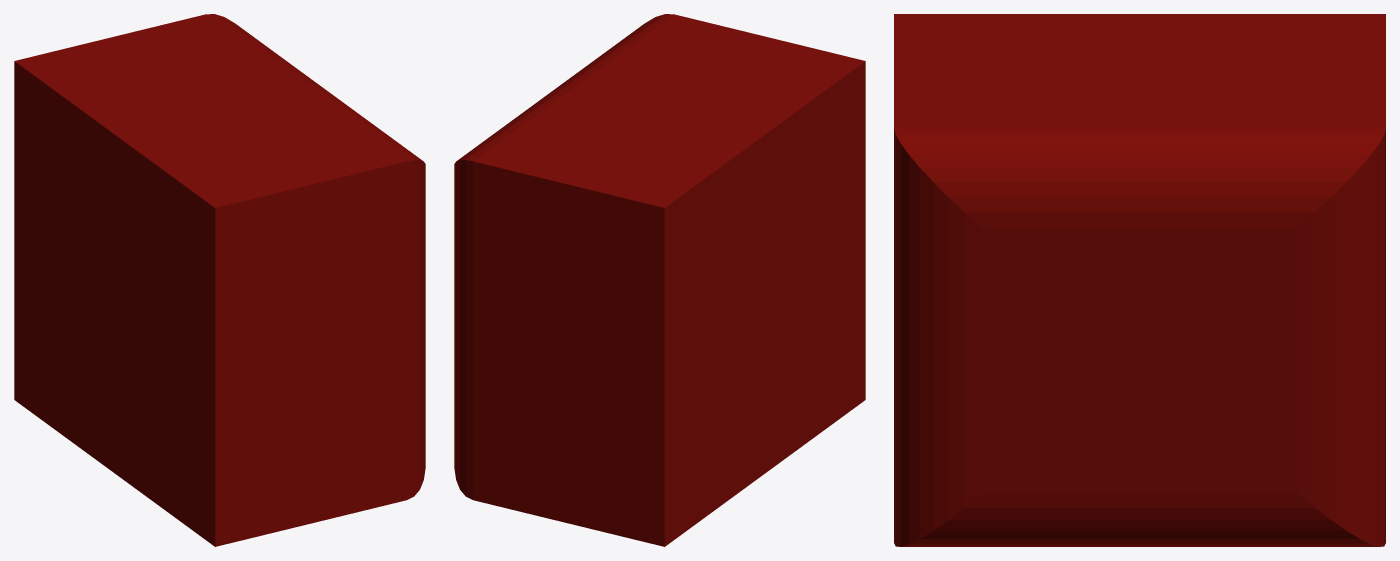
The model's file is red_big_button.glb.
3 views of the same model, side by side, from view 1: azimuth 30°, elevation 25°; view 2: azimuth 150°, elevation 25°; view 3: azimuth 270°, elevation 25° (orthographic). The views are drawn at different scales.
Visible parts, largest first — view 1: Кнопка; view 2: Кнопка; view 3: Кнопка.
Part boxes in pixels (left/top/right/bottom): Кнопка: left=14, top=14, right=425, bottom=546; Кнопка: left=454, top=14, right=865, bottom=546; Кнопка: left=894, top=14, right=1385, bottom=546.
Bounding box in the file's own units: 0.5853 × 0.8127 × 0.8734.
